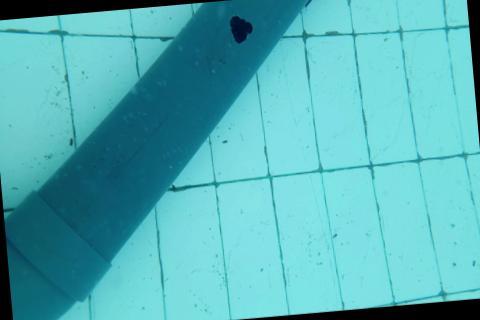kebocoran: (227, 13, 256, 46)
